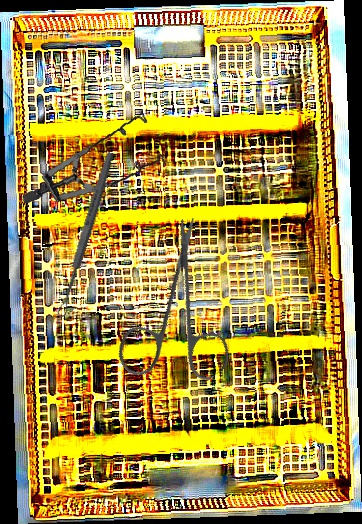Iris Scissors: (74, 213, 280, 417)
Speculum: (21, 97, 172, 220)
Surgical Spoon: (55, 151, 116, 318)
